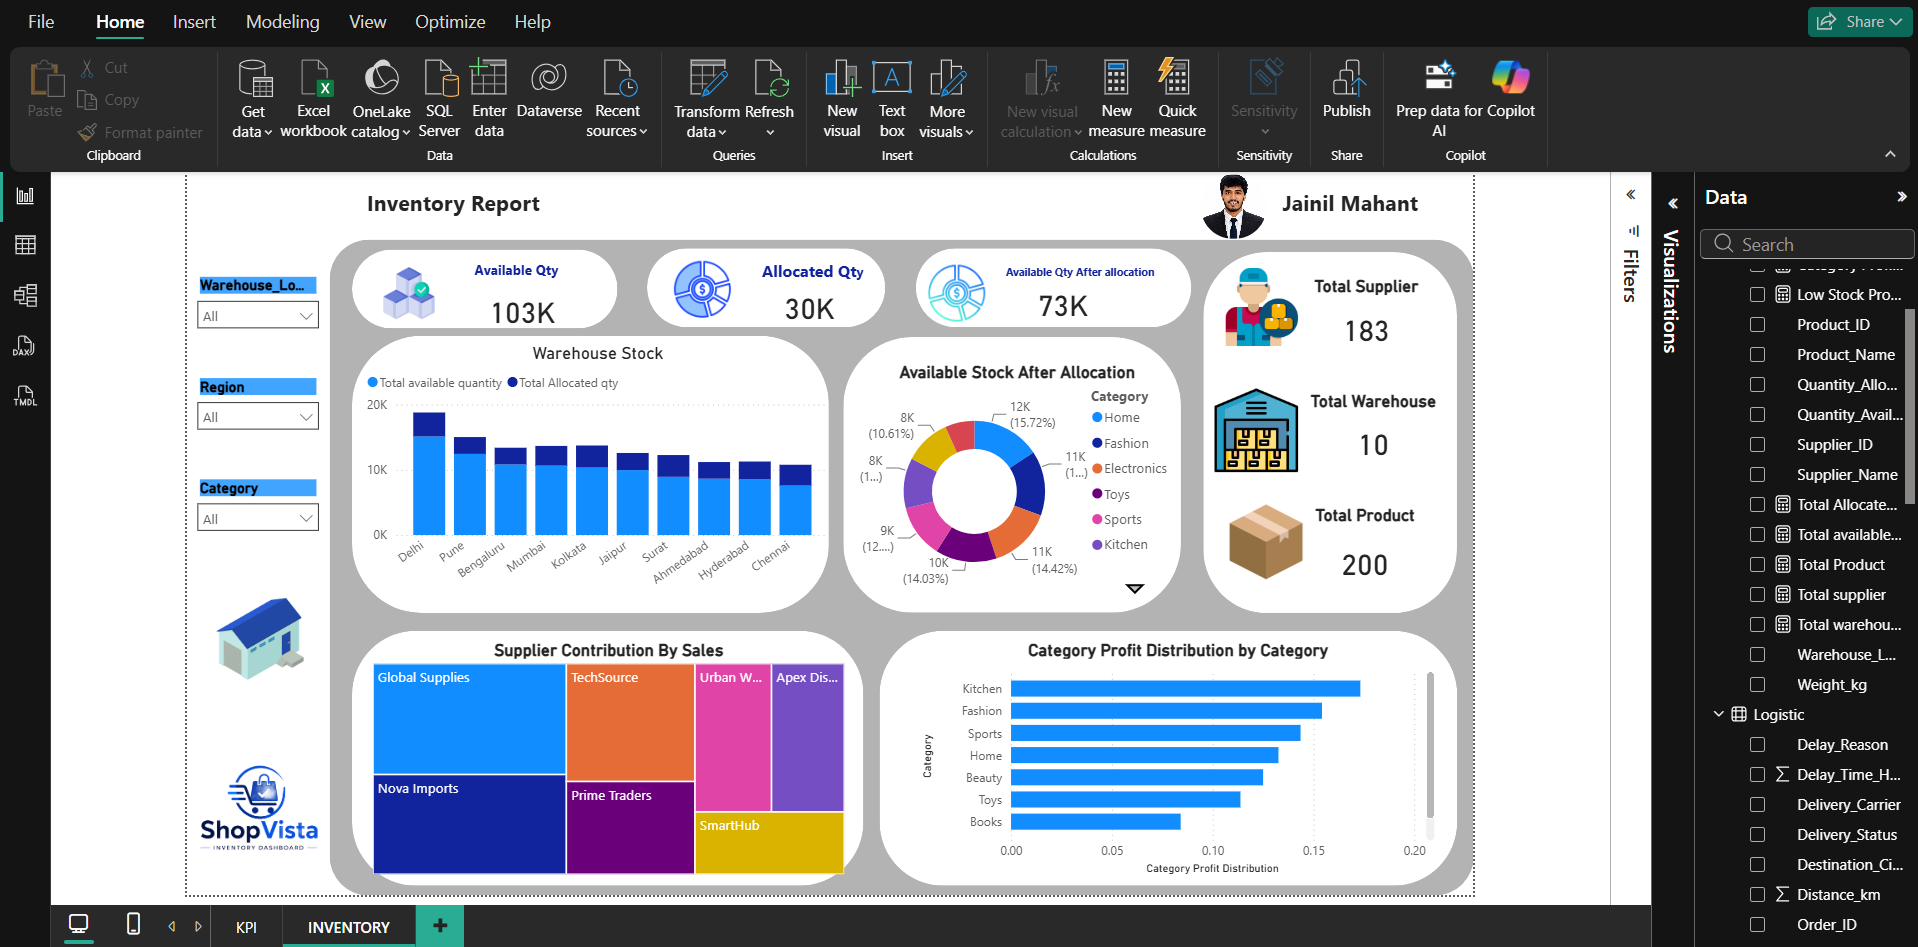

What the dashboard file says about the page in this screenshot:
{"tool":"powerbi","page":{"name":"INVENTORY","canvas":[1280,720],"ordinal":1},"visuals":[{"type":"shape","box":[141.3,67.2,1138.9,653.2],"z":0},{"type":"shape","box":[1011.3,79.6,252.5,359.5],"z":1000},{"type":"shape","box":[164.3,77.1,264.3,78.6],"z":2000,"group":"g1"},{"type":"shape","box":[164.7,163.3,474.8,275.8],"z":2000},{"type":"shape","box":[653.2,164.7,336.2,274.4],"z":3000},{"type":"shape","box":[725.7,75.7,274.3,78.6],"z":4000,"group":"g3"},{"type":"shape","box":[164.7,456.9,509.1,253.9],"z":4000},{"type":"shape","box":[688.9,456.9,575,253.9],"z":5000},{"type":"shape","box":[457.9,75.7,237.1,78.6],"z":6000,"group":"g2"},{"type":"columnChart","title":"Warehouse Stock","fields":{"Category":["Inventry.Warehouse_Location"],"Y":["Inventry.Total available quantity","Inventry.Total Allocated qty"]},"box":[174.3,170.2,469.3,262.1],"z":6000},{"type":"donutChart","title":"Available Stock After Allocation ","fields":{"Y":["Inventry.Available Stock After Allocation"],"Category":["Inventry.Category"]},"box":[662.8,189.4,326.6,238.8],"z":7000},{"type":"treemap","title":"Supplier Contribution By Sales","fields":{"Group":["Inventry.Supplier_Name"],"Values":["Sales.Total Sales"]},"box":[179.8,465.2,478.9,238.8],"z":8000},{"type":"barChart","fields":{"Category":["Inventry.Category"],"Y":["Inventry.Category Profit Distribution"]},"box":[725.9,465.2,520.1,238.8],"z":9000},{"type":"card","title":"Total Warehouse","fields":{"Values":["Inventry.Total warehouse"]},"box":[1097.1,217.1,167.1,84.3],"z":10000},{"type":"card","title":"Total Product","fields":{"Values":["Inventry.Total Product"]},"box":[1081.4,331.4,182.9,97.1],"z":11000},{"type":"card","title":"TOTAL ALLOCATED QTY","fields":{"Values":["Inventry.Total Allocated qty"]},"box":[545,97.1,150,74.3],"z":12000,"group":"g2"},{"type":"card","title":"Total Supplier","fields":{"Values":["Inventry.Total supplier"]},"box":[1067.1,102.9,212.9,87.1],"z":12000},{"type":"image","box":[1022.9,85.7,88.6,97.1],"z":13000},{"type":"card","title":"TOTAL AVAILABLE QTY","fields":{"Values":["Inventry.Total available quantity"]},"box":[257.2,105.7,152.9,65.7],"z":14000,"group":"g1"},{"type":"image","box":[1022.9,211.4,82.9,91.4],"z":14000},{"type":"image","box":[1025.7,331.4,95.7,74.3],"z":15000},{"type":"textbox","box":[174.3,11.4,185.7,44.3],"z":16000},{"type":"card","title":"AVAILABLE STOCK AFTER ALLOCATION","fields":{"Values":["Inventry.Available Stock After Allocation"]},"box":[810,98.6,124.3,65.7],"z":16000,"group":"g3"},{"type":"group","id":"g1","title":"Group 1","box":[164.3,77.1,264.3,94.3],"z":17000},{"type":"group","id":"g2","title":"Group 2","box":[457.9,75.7,238.6,95.7],"z":18000},{"type":"image","box":[195.7,82.8,51.4,74.3],"z":18000,"group":"g1"},{"type":"group","id":"g3","title":"Group 3","box":[725.7,75.7,288.6,88.6],"z":19000},{"type":"image","box":[467.9,88.6,90,57.1],"z":20000,"group":"g2"},{"type":"slicer","fields":{"Values":["Inventry.Category"]},"box":[0,301.4,141.4,71.4],"z":20000},{"type":"slicer","fields":{"Values":["Inventry.Warehouse_Location"]},"box":[0,100,141.4,71.4],"z":21000},{"type":"image","box":[738.6,82.8,57.1,74.3],"z":22000,"group":"g3"},{"type":"slicer","fields":{"Values":["Logistic.Region"]},"box":[0,200.7,141.4,71.4],"z":22000},{"type":"image","box":[0,554.3,141.4,165.7],"z":23000},{"type":"textbox","box":[1064.3,11.4,185.7,44.3],"z":24000},{"type":"image","box":[1008.6,2.9,65.7,64.3],"z":25000},{"type":"textbox","box":[281.4,82.8,105.7,34.3],"z":25000,"group":"g1"},{"type":"textbox","box":[567.9,81.4,128.6,34.3],"z":26000,"group":"g2"},{"type":"image","box":[24.3,415.7,95.7,98.6],"z":26000},{"type":"textbox","box":[810,84.3,204.3,37.1],"z":27000,"group":"g3"}]}

Visuals, with their boxes on the page's 1280x720 design canvas (x1, y1, x2, y2). These are canvas units, not pixel positions in the 1918x947 screenshot, which may show the page scaled, cropped or inside an application window:
shape: (x1=141, y1=67, x2=1280, y2=720)
shape: (x1=1011, y1=80, x2=1264, y2=439)
shape: (x1=164, y1=77, x2=429, y2=156)
shape: (x1=165, y1=163, x2=640, y2=439)
shape: (x1=653, y1=165, x2=989, y2=439)
shape: (x1=726, y1=76, x2=1000, y2=154)
shape: (x1=165, y1=457, x2=674, y2=711)
shape: (x1=689, y1=457, x2=1264, y2=711)
shape: (x1=458, y1=76, x2=695, y2=154)
"Warehouse Stock" columnChart: (x1=174, y1=170, x2=644, y2=432)
"Available Stock After Allocation " donutChart: (x1=663, y1=189, x2=989, y2=428)
"Supplier Contribution By Sales" treemap: (x1=180, y1=465, x2=659, y2=704)
barChart - Inventry.Category x Inventry.Category Profit Distribution: (x1=726, y1=465, x2=1246, y2=704)
"Total Warehouse" card: (x1=1097, y1=217, x2=1264, y2=301)
"Total Product" card: (x1=1081, y1=331, x2=1264, y2=428)
"TOTAL ALLOCATED QTY" card: (x1=545, y1=97, x2=695, y2=171)
"Total Supplier" card: (x1=1067, y1=103, x2=1280, y2=190)
image: (x1=1023, y1=86, x2=1112, y2=183)
"TOTAL AVAILABLE QTY" card: (x1=257, y1=106, x2=410, y2=171)
image: (x1=1023, y1=211, x2=1106, y2=303)
image: (x1=1026, y1=331, x2=1121, y2=406)
textbox: (x1=174, y1=11, x2=360, y2=56)
"AVAILABLE STOCK AFTER ALLOCATION" card: (x1=810, y1=99, x2=934, y2=164)
"Group 1" group: (x1=164, y1=77, x2=429, y2=171)
"Group 2" group: (x1=458, y1=76, x2=696, y2=171)
image: (x1=196, y1=83, x2=247, y2=157)
"Group 3" group: (x1=726, y1=76, x2=1014, y2=164)
image: (x1=468, y1=89, x2=558, y2=146)
slicer - Inventry.Category: (x1=0, y1=301, x2=141, y2=373)
slicer - Inventry.Warehouse_Location: (x1=0, y1=100, x2=141, y2=171)
image: (x1=739, y1=83, x2=796, y2=157)
slicer - Logistic.Region: (x1=0, y1=201, x2=141, y2=272)
image: (x1=0, y1=554, x2=141, y2=720)
textbox: (x1=1064, y1=11, x2=1250, y2=56)
image: (x1=1009, y1=3, x2=1074, y2=67)
textbox: (x1=281, y1=83, x2=387, y2=117)
textbox: (x1=568, y1=81, x2=696, y2=116)
image: (x1=24, y1=416, x2=120, y2=514)
textbox: (x1=810, y1=84, x2=1014, y2=121)
